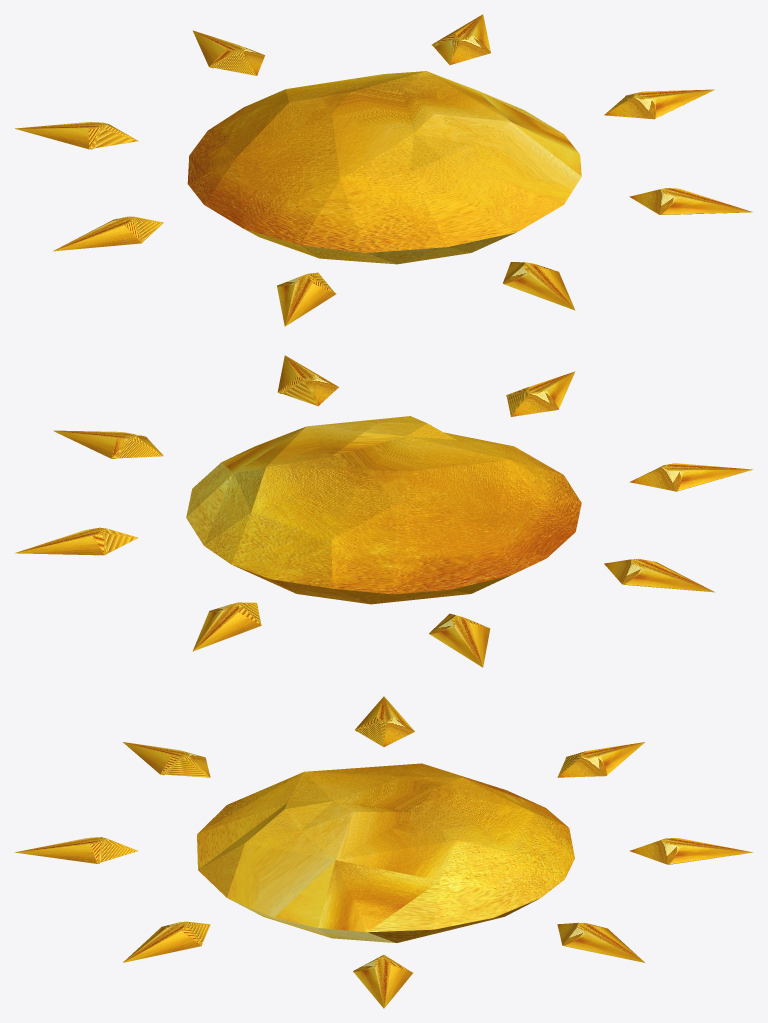
File: sun.obj
3 views of the same model, one above another, from view 1: azimuth 30°, elevation 25°; view 2: azimuth 150°, elevation 25°; view 3: azimuth 270°, elevation 25° (orthographic). The views are drawn at different scales.
Visible parts, largest first — view 1: Oil_Tank, Platonic.5, Platonic.1, Platonic.2, Platonic.4, Platonic.6, Platonic.3, Platonic.8, Platonic.7; view 2: Oil_Tank, Platonic.7, Platonic.2, Platonic.3, Platonic.6, Platonic.8, Platonic.1, Platonic.4, Platonic.5; view 3: Oil_Tank, Platonic.4, Platonic.8, Platonic.7, Platonic.5, Platonic.3, Platonic.1, Platonic.6, Platonic.2.
Part boxes in pixels (x1,y1,x2,y2): Oil_Tank: [187, 71, 581, 264]; Platonic.5: [629, 188, 752, 214]; Platonic.1: [15, 122, 138, 149]; Platonic.2: [53, 216, 163, 251]; Platonic.4: [503, 262, 575, 310]; Platonic.6: [604, 89, 714, 119]; Platonic.3: [277, 272, 336, 326]; Platonic.8: [192, 30, 264, 75]; Platonic.7: [431, 14, 490, 64]; Oil_Tank: [186, 416, 581, 604]; Platonic.7: [15, 527, 138, 555]; Platonic.2: [604, 558, 714, 592]; Platonic.3: [629, 463, 752, 491]; Platonic.6: [53, 430, 163, 458]; Platonic.8: [192, 602, 261, 651]; Platonic.1: [429, 613, 490, 667]; Platonic.4: [506, 371, 575, 416]; Platonic.5: [277, 355, 338, 406]; Oil_Tank: [197, 763, 574, 942]; Platonic.4: [14, 837, 137, 863]; Platonic.8: [630, 838, 753, 864]; Platonic.7: [557, 922, 644, 962]; Platonic.5: [123, 921, 210, 962]; Platonic.3: [123, 742, 210, 777]; Platonic.1: [557, 742, 644, 777]; Platonic.6: [353, 955, 412, 1008]; Platonic.2: [355, 696, 414, 746].
Bounding box in the file's own units: 384 × 71.14 × 384.
Materials: 1 (1 with a texture image).
